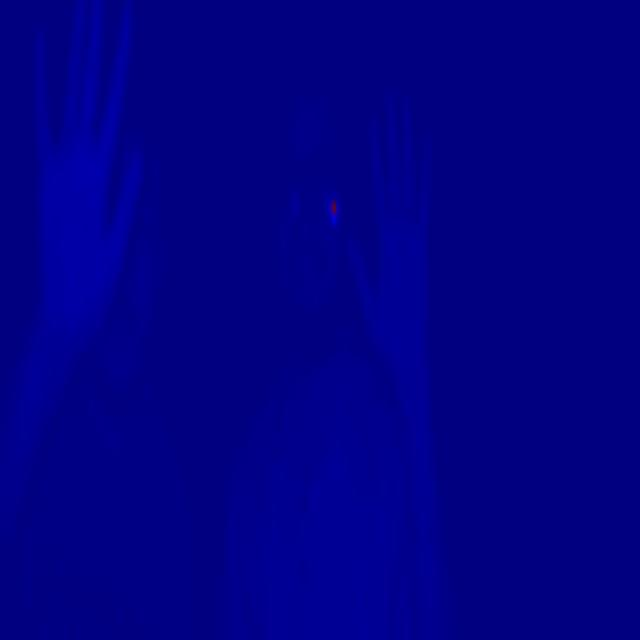hand: (21, 0, 157, 357), (330, 77, 448, 388)
